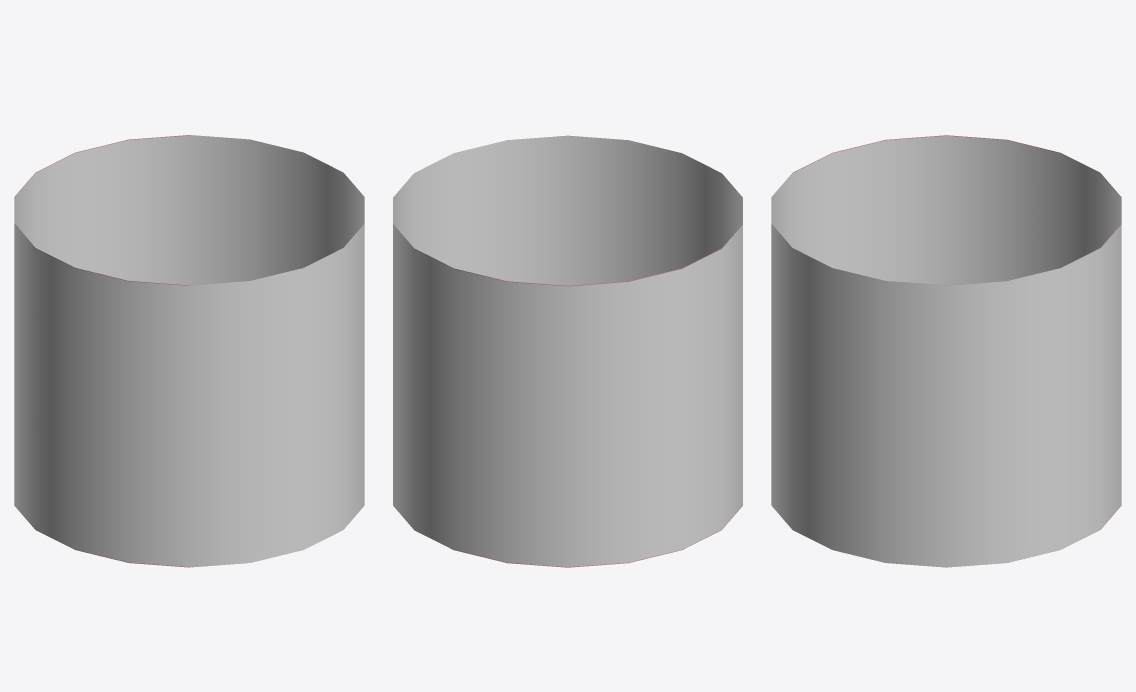
Rendered from Llauna.FBX.
The picture shows the model from 3 angles, left to right: view 1: azimuth 30°, elevation 25°; view 2: azimuth 150°, elevation 25°; view 3: azimuth 270°, elevation 25°; orthographic projection.
Visible parts, largest first — view 1: Cylinder001; view 2: Cylinder001; view 3: Cylinder001.
Part boxes in pixels (x1,y1,x2,y2): Cylinder001: [14, 135, 364, 567]; Cylinder001: [393, 135, 742, 567]; Cylinder001: [771, 135, 1121, 567].
Bounding box in the file's own units: 26.11 × 44.03 × 25.71.
1 material, 1 textured.
